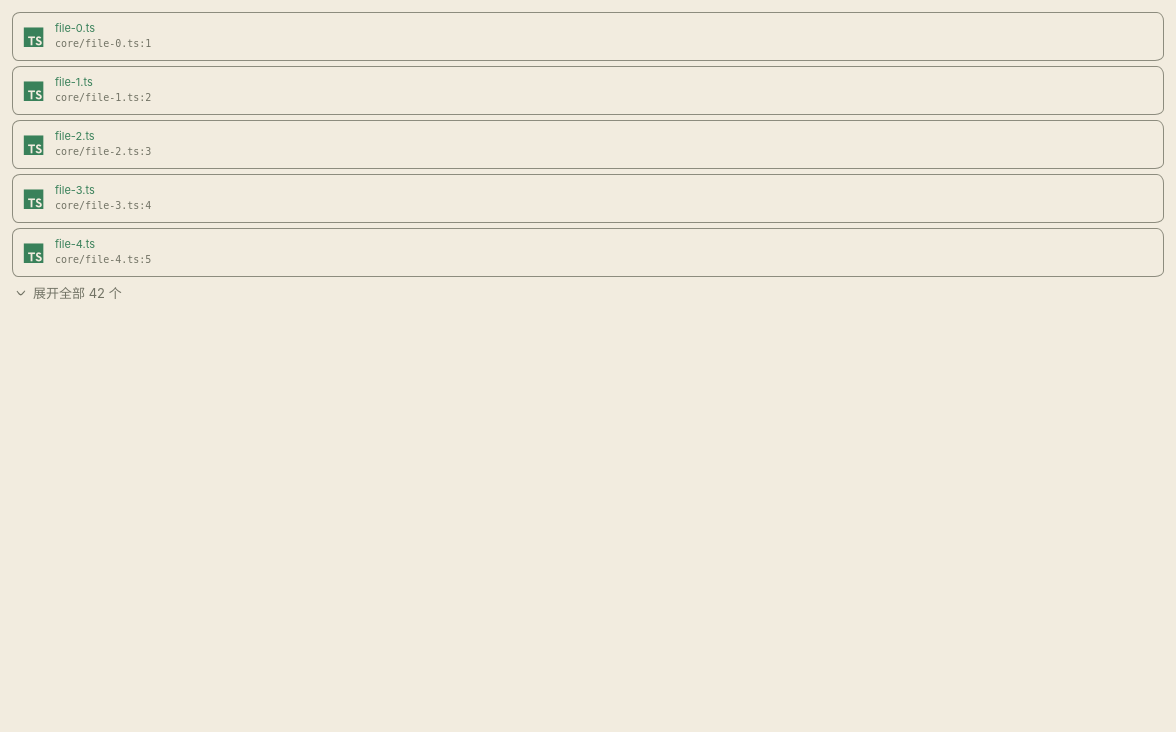
Test: searches file paths and starts the results from the first page
This screenshot has width=1176, height=732.
Click the button "展开全部 42 个" at point(68, 292), box [12,279,124,306]
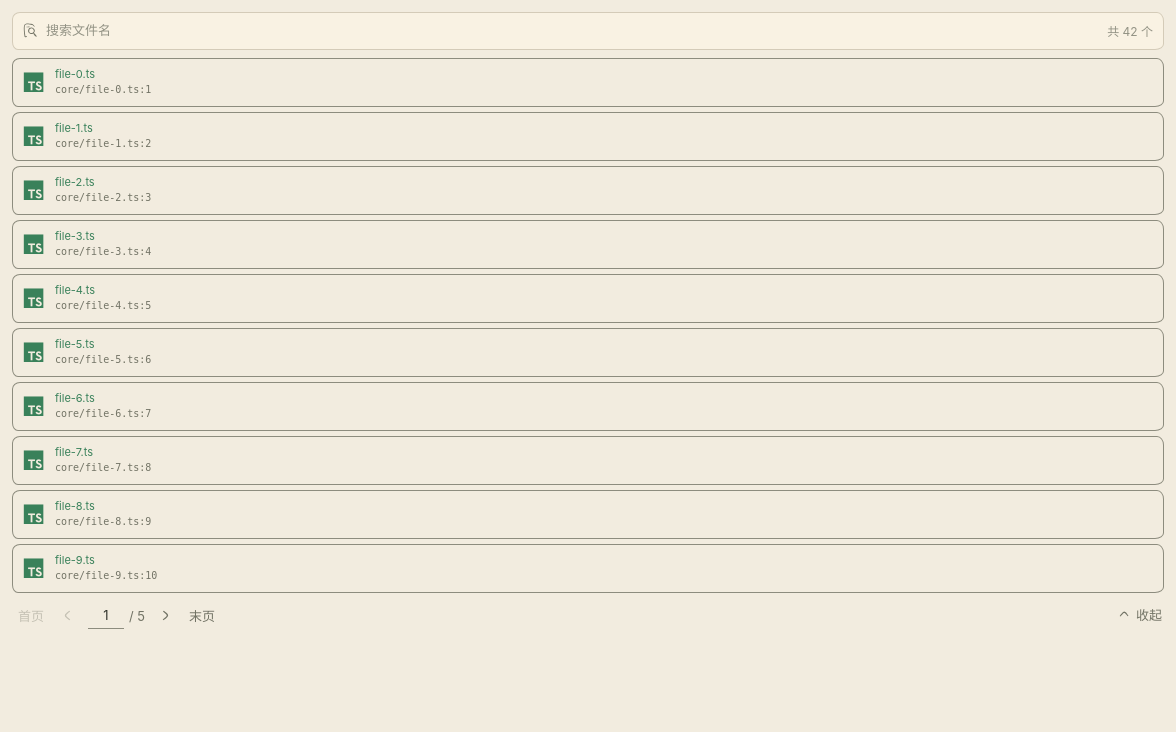
Click the button named "下一页" at point(166, 616), box [151,600,181,630]
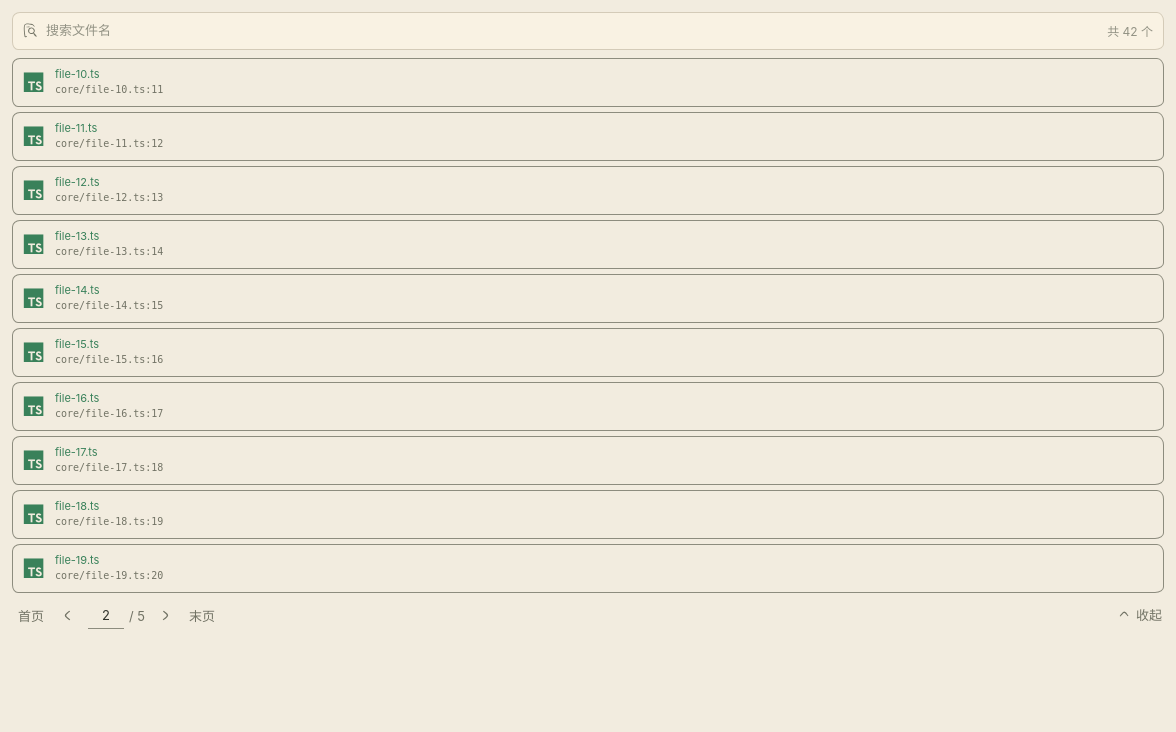
Type "EXTENSION/" into the search field named "搜索文件名" at point(573, 31), box [46,18,1100,44]
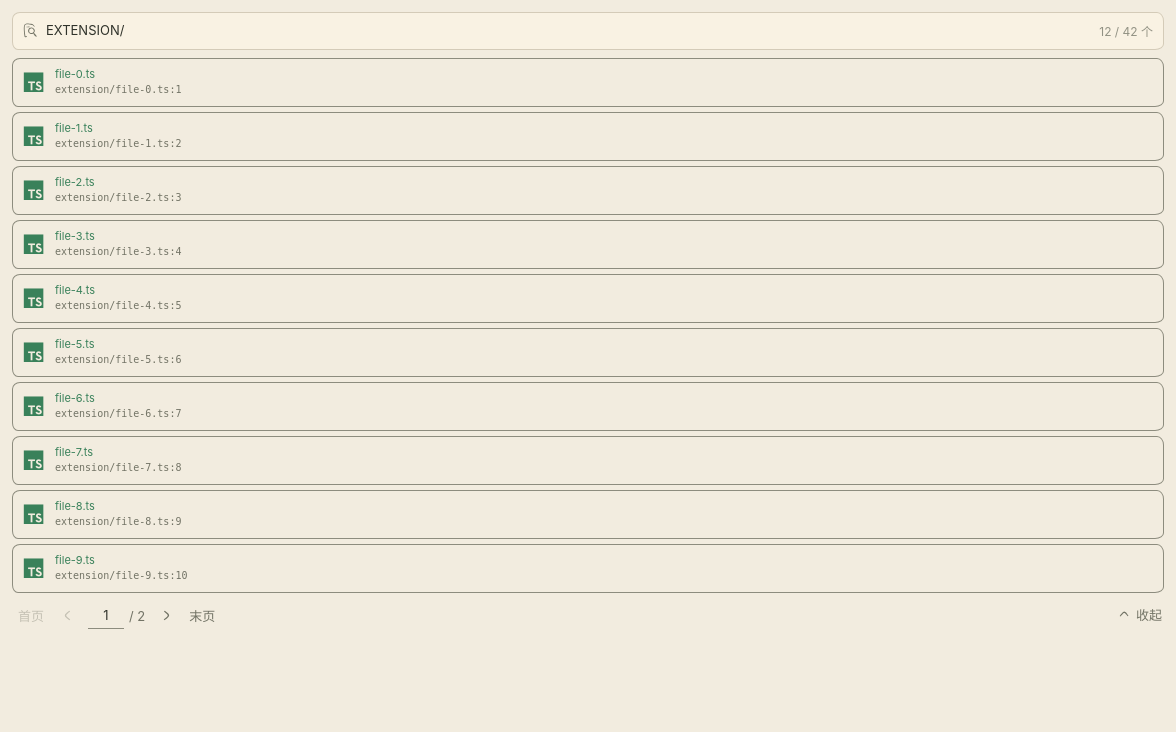
Now the text "12 / 42 个" is shown, box [1099,22,1153,39]
Now the field named "页码" holds "1", box [88,602,124,629]
Replace the text in the search field named "搜索文件名" with "missing" at point(569, 31), box [46,18,1092,44]
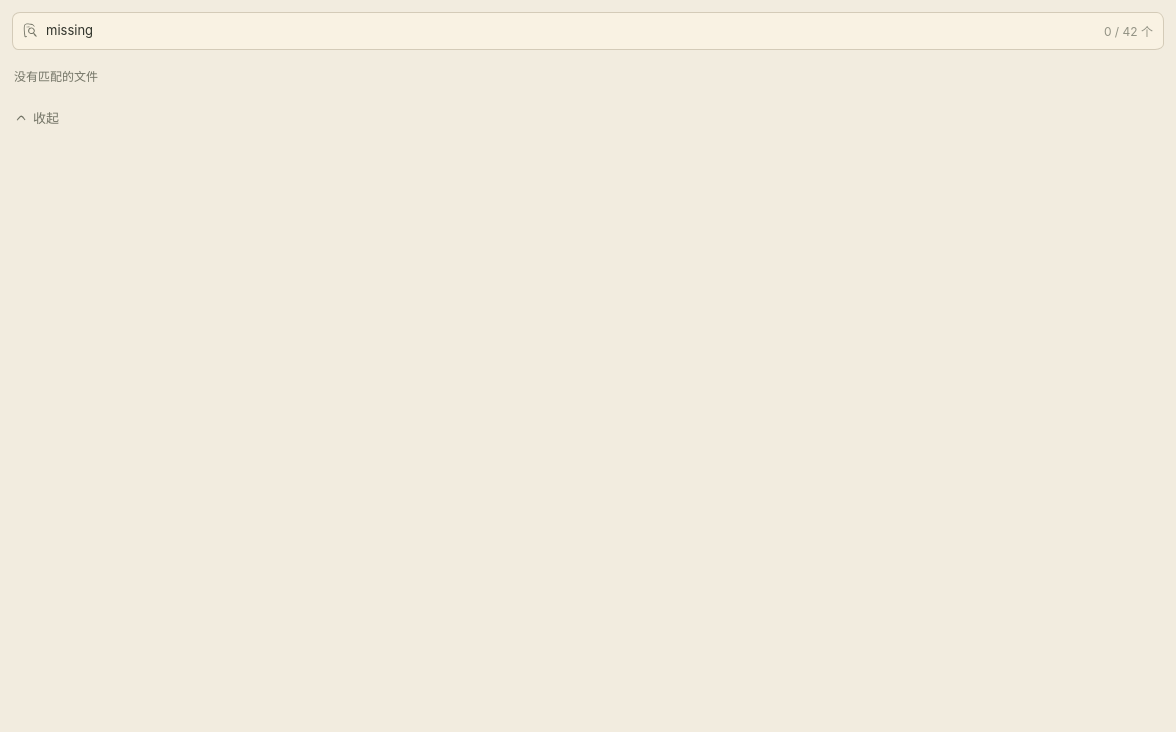
Now the text "没有匹配的文件" is shown, box [14,68,98,84]
Now the navigation bar "翻页" is gone
